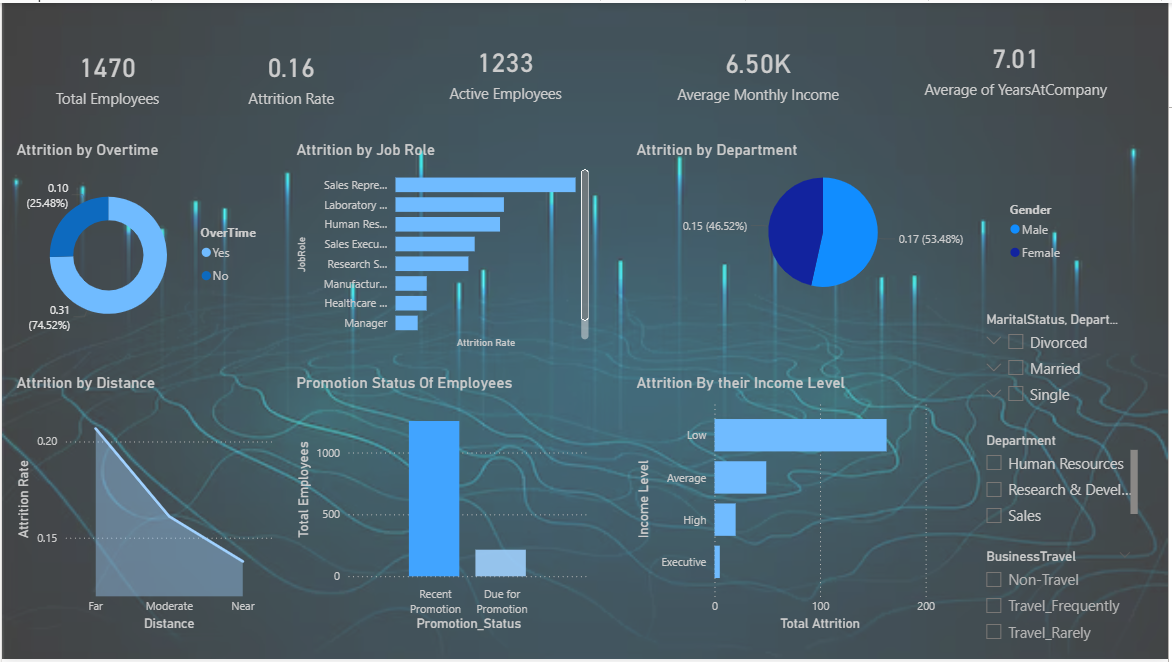

The page's visual inventory and layout, read from the dashboard file:
{"tool":"powerbi","page":{"name":"Page 1","canvas":[1280,720],"ordinal":0},"visuals":[{"type":"card","fields":{"Values":["IBM_Cleaned.Total Employees"]},"box":[0,27.4,231.9,105.7],"z":0},{"type":"card","fields":{"Values":["IBM_Cleaned.Attrition Rate"]},"box":[203.1,27.4,229.2,105.7],"z":1000},{"type":"card","fields":{"Values":["Avg(IBM_Cleaned.MonthlyIncome)"]},"box":[691.6,27.4,277.2,96.1],"z":2000},{"type":"card","fields":{"Values":["IBM_Cleaned.Active Employees"]},"box":[433.6,22,238.8,105.7],"z":3000},{"type":"card","fields":{"Values":["Avg(IBM_Cleaned.YearsAtCompany)"]},"box":[974.3,17.8,277.2,105.7],"z":4000},{"type":"donutChart","title":"Attrition by Overtime","fields":{"Category":["IBM_Cleaned.OverTime"],"Y":["Avg(IBM_Cleaned.Attrition_Num)"]},"box":[11,150.9,290.9,233.3],"z":5000},{"type":"clusteredBarChart","title":"Attrition by Job Role","fields":{"Category":["IBM_Cleaned.JobRole"],"Y":["IBM_Cleaned.Attrition Rate"]},"box":[318.4,150.9,330.7,233.3],"z":6000},{"type":"clusteredBarChart","title":"Attrition By their Income Level","fields":{"Category":["IBM_Cleaned.Income_Level"],"Y":["Sum(IBM_Cleaned.Attrition_Num)"]},"box":[691.6,406.2,337.6,288.2],"z":7000},{"type":"areaChart","title":"Attrition by Distance ","fields":{"Category":["IBM_Cleaned.Distance_Category"],"Y":["IBM_Cleaned.Attrition Rate"]},"box":[11,406.2,290.9,288.2],"z":8000},{"type":"pieChart","title":"Employees by Promotion Status","fields":{"Category":["IBM_Cleaned.Promotion_Status"],"Y":["IBM_Cleaned.Total Employees"]},"box":[318.4,406.2,330.7,288.2],"z":9000},{"type":"slicer","fields":{"Values":["IBM_Cleaned.Department"]},"box":[1067.6,466.6,183.9,111.1],"z":10000},{"type":"slicer","fields":{"Values":["IBM_Cleaned.BusinessTravel"]},"box":[1067.6,594.2,183.9,119.4],"z":11000},{"type":"slicer","fields":{"Values":["IBM_Cleaned.MaritalStatus","IBM_Cleaned.Department"]},"box":[1067.6,333.4,183.9,118],"z":12000},{"type":"pivotTable","fields":{"Rows":["IBM_Cleaned.Job_Satisfaction_Label"],"Columns":["IBM_Cleaned.Department"],"Values":["Avg(IBM_Cleaned.Attrition_Num)"]},"box":[691.6,150.9,485.8,182.5],"z":13000}]}

Visuals, with their boxes in screenshot pixels (x1, y1, x2, y2), scaled from the page's 1280x720 canvas onto the 1172x662 screenshot:
card - IBM_Cleaned.Total Employees: l=0, t=25, r=212, b=122
card - IBM_Cleaned.Attrition Rate: l=186, t=25, r=396, b=122
card - Avg(IBM_Cleaned.MonthlyIncome): l=633, t=25, r=887, b=114
card - IBM_Cleaned.Active Employees: l=397, t=20, r=616, b=117
card - Avg(IBM_Cleaned.YearsAtCompany): l=892, t=16, r=1146, b=114
"Attrition by Overtime" donutChart: l=10, t=139, r=276, b=353
"Attrition by Job Role" clusteredBarChart: l=292, t=139, r=594, b=353
"Attrition By their Income Level" clusteredBarChart: l=633, t=373, r=942, b=638
"Attrition by Distance " areaChart: l=10, t=373, r=276, b=638
"Employees by Promotion Status" pieChart: l=292, t=373, r=594, b=638
slicer - IBM_Cleaned.Department: l=978, t=429, r=1146, b=531
slicer - IBM_Cleaned.BusinessTravel: l=978, t=546, r=1146, b=656
slicer - IBM_Cleaned.MaritalStatus x IBM_Cleaned.Department: l=978, t=307, r=1146, b=415
pivotTable - IBM_Cleaned.Job_Satisfaction_Label x IBM_Cleaned.Department: l=633, t=139, r=1078, b=307
